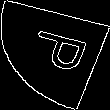P_E: (18, 30, 92, 80)
